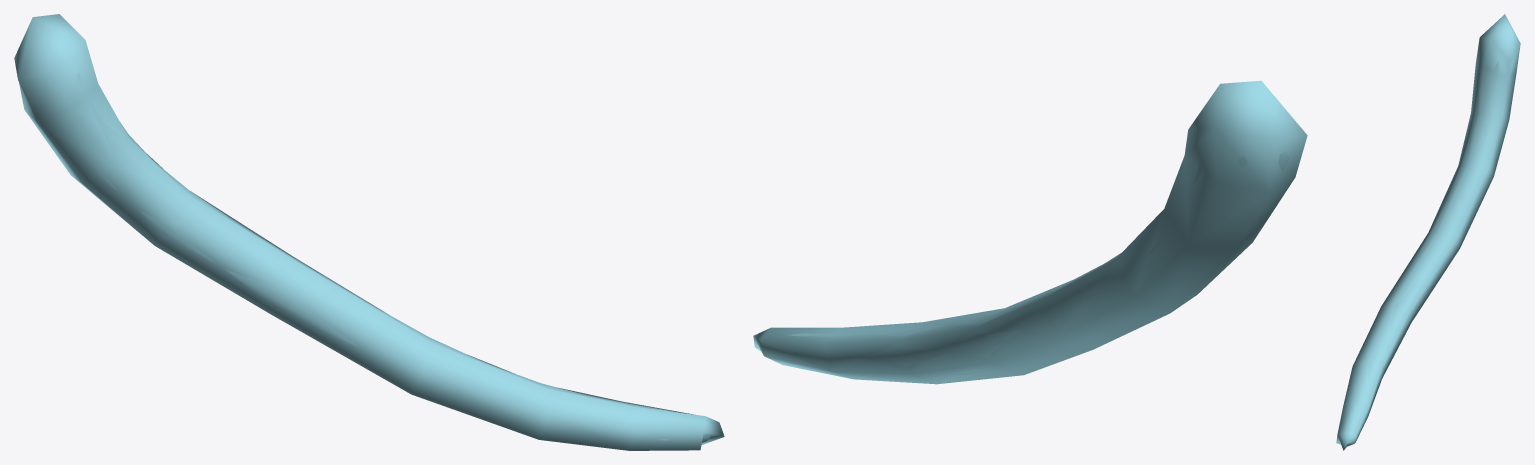
3 views of the same model, side by side, from view 1: azimuth 30°, elevation 25°; view 2: azimuth 150°, elevation 25°; view 3: azimuth 270°, elevation 25° (orthographic). The views are drawn at different scales.
Parts seen in each view (by area): view 1: CC R3 low, CC R3; view 2: CC R3 low, CC R3; view 3: CC R3 low, CC R3.
Part boxes in pixels (x1,y1,x2,y2): CC R3 low: [14, 14, 724, 450]; CC R3: [23, 73, 710, 442]; CC R3 low: [753, 80, 1307, 384]; CC R3: [787, 151, 1289, 375]; CC R3 low: [1336, 14, 1520, 450]; CC R3: [1346, 51, 1512, 446].
Size of the model in its own units: 1.69 by 1.28 by 0.7694.
